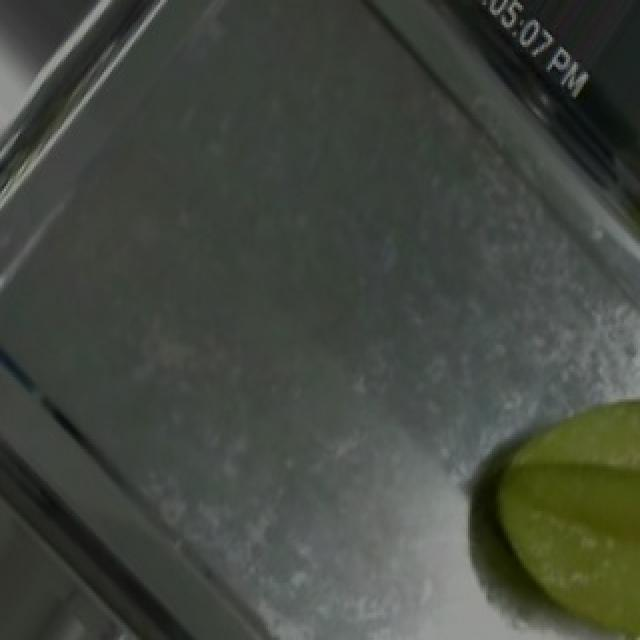fruit: (462, 352, 640, 640)
